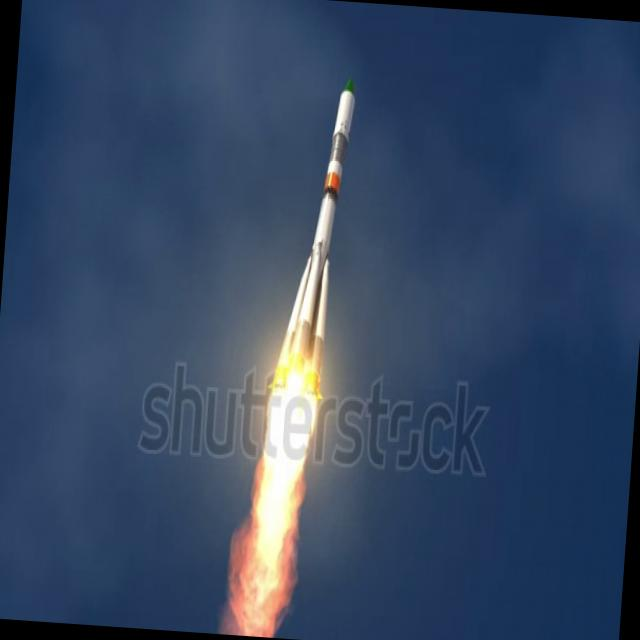rocket: (236, 64, 364, 612)
